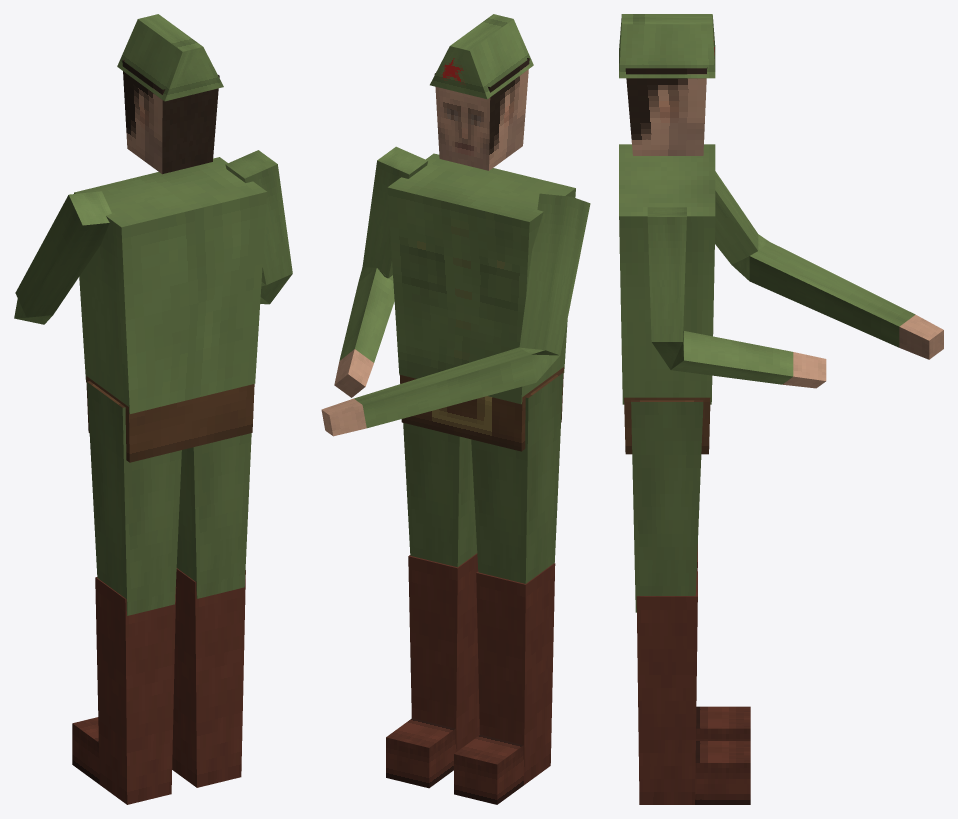
File: guardnf.obj
3 views of the same model, side by side, from view 1: azimuth 30°, elevation 25°; view 2: azimuth 150°, elevation 25°; view 3: azimuth 270°, elevation 25° (orthographic). The views are drawn at different scales.
Parts seen in each view (by area): view 1: torso, shin_r, thigh_r, shin_l, thigh_l, head, hips, arm_r, cap, arm_l; view 2: torso, shin_r, shin_l, thigh_r, thigh_l, forearm_r, arm_r, head, cap, forearm_l, hips, arm_l; view 3: torso, shin_l, thigh_l, forearm_r, head, forearm_l, cap, arm_l, arm_r, shin_r, hips.
Boxes of the visible parts, box(x1,y1,x2,y2) form: torso: box(74, 157, 267, 413); shin_r: box(72, 577, 176, 804); thigh_r: box(87, 381, 181, 615); shin_l: box(172, 568, 245, 787); thigh_l: box(176, 433, 251, 598); head: box(122, 59, 219, 174); hips: box(86, 376, 254, 462); arm_r: box(15, 191, 111, 317); cap: box(117, 14, 223, 101); arm_l: box(225, 150, 292, 284); torso: box(387, 153, 575, 404); shin_r: box(454, 563, 555, 804); shin_l: box(386, 553, 479, 788); thigh_r: box(471, 372, 563, 583); thigh_l: box(403, 423, 477, 567); forearm_r: box(321, 347, 559, 436); arm_r: box(519, 193, 590, 355); head: box(434, 58, 529, 170); cap: box(430, 14, 533, 99); forearm_l: box(334, 267, 394, 397); hips: box(399, 367, 563, 451); arm_l: box(362, 146, 427, 278); torso: box(619, 144, 715, 404); shin_l: box(636, 571, 750, 804); thigh_l: box(631, 400, 703, 612); forearm_r: box(732, 234, 943, 359); head: box(625, 67, 707, 155); forearm_l: box(652, 331, 826, 388); cap: box(619, 14, 715, 78); arm_l: box(647, 207, 686, 341); arm_r: box(715, 171, 758, 264); shin_r: box(696, 544, 750, 740); hips: box(624, 397, 710, 454).
Bounding box in the file's own units: 39.27 × 122 × 47.31.
Materials: 14 (14 with a texture image).
